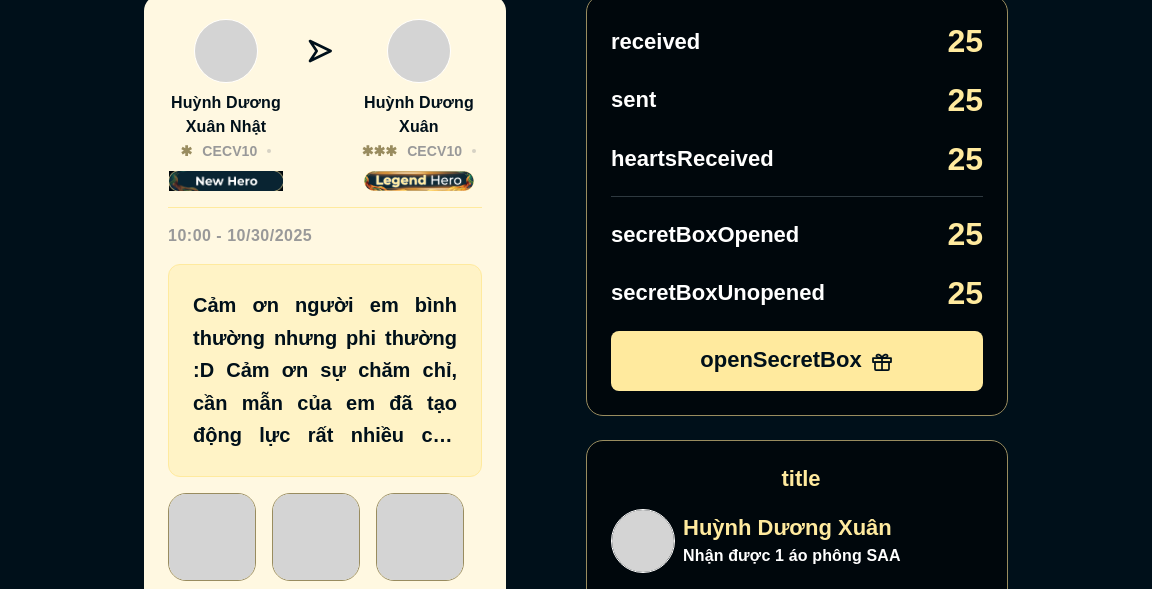
KudosBoardContainer › Mở Secret Box stub › shows a coming-soon toast — the Secret Box dialog itself is out of scope
This screenshot has width=1152, height=589.
(page scrolled)
Click the button "openSecretBox".
click(797, 361)  # box [611,331,983,391]
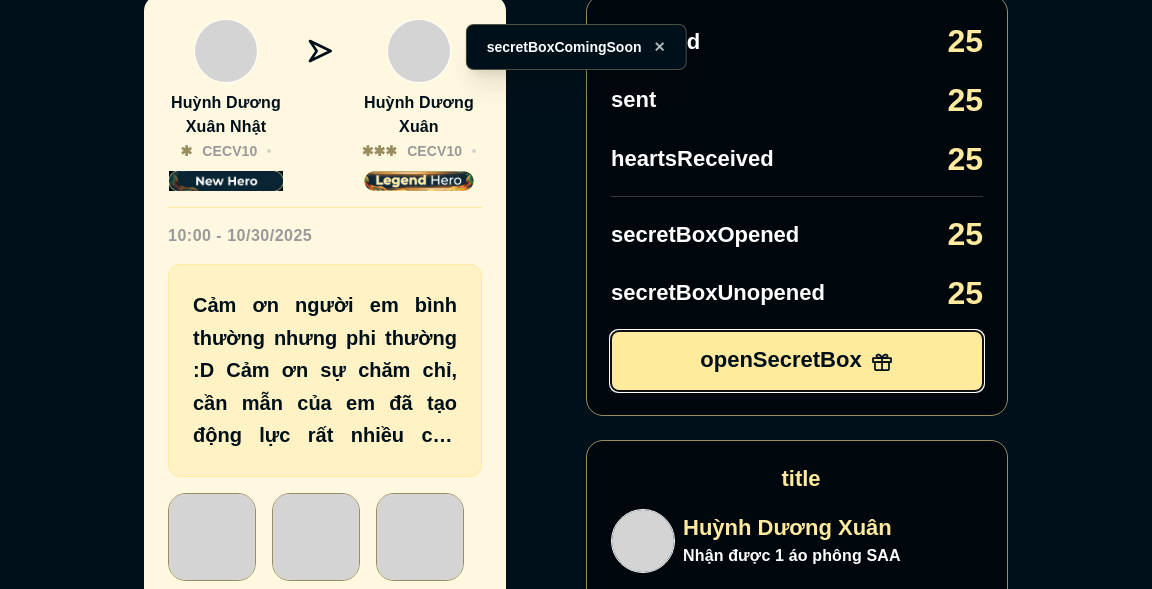
Now the message shows "secretBoxComingSoon", box [487,39,642,55]
